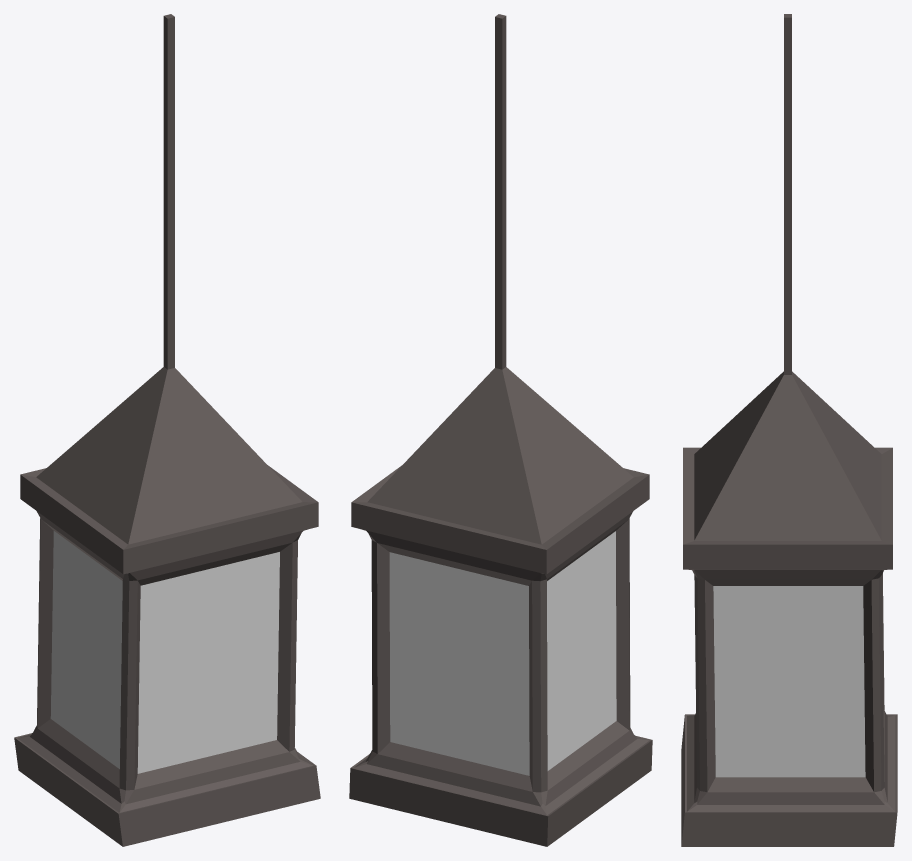
Rendered from Light.fbx.
3 renders of one model, left to right at view 1: azimuth 30°, elevation 25°; view 2: azimuth 150°, elevation 25°; view 3: azimuth 270°, elevation 25°, orthographic.
Visible parts, largest first — view 1: Light; view 2: Light; view 3: Light.
Part boxes in pixels (x1=…): Light: x1=14, y1=14, x2=320, y2=846; Light: x1=349, y1=14, x2=652, y2=846; Light: x1=681, y1=14, x2=897, y2=846.
Bounding box in the file's own units: 23.16 × 84.79 × 21.23.
